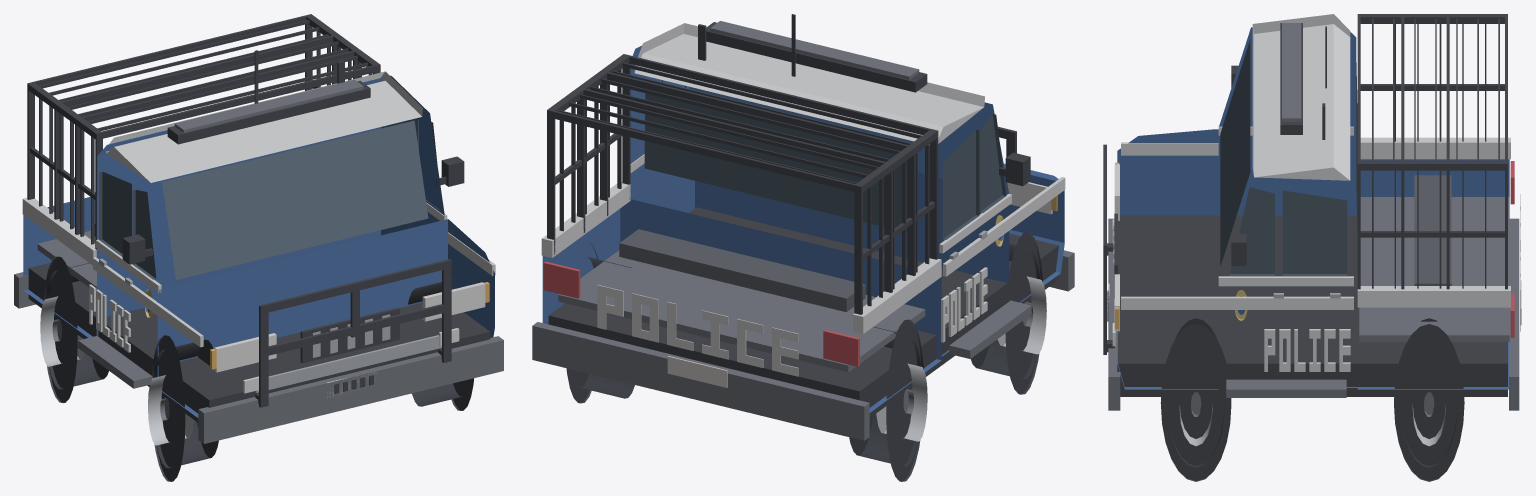
The model's file is gate_police_hilux.glb.
The picture shows the model from 3 angles, left to right: view 1: azimuth 30°, elevation 25°; view 2: azimuth 150°, elevation 25°; view 3: azimuth 270°, elevation 25°; orthographic projection. The views are drawn at different scales.
Parts seen in each view (by area): view 1: gate_police_hilux; view 2: gate_police_hilux; view 3: gate_police_hilux.
Boxes of the visible parts, x1,y1,x2,y2 form: gate_police_hilux: (14,14,503,481); gate_police_hilux: (532,14,1074,481); gate_police_hilux: (1103,14,1521,481).
Bounding box in the file's own units: 1 × 1 × 1.
